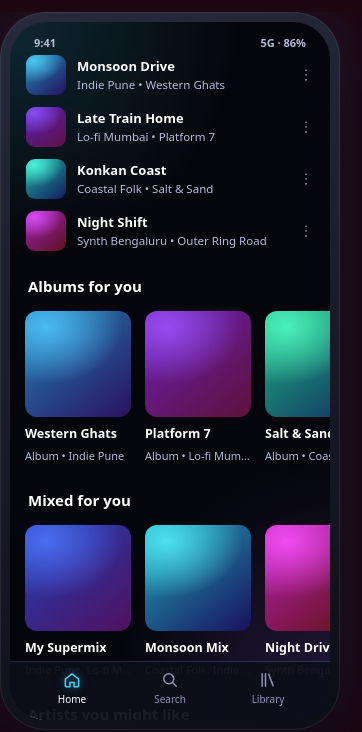
Scenario: Swar demo › opens an album and plays it from a track
This screenshot has width=362, height=732.
(page scrolled)
Click the button "Platform 7 Album • Lo-fi Mumbai": (198, 388) 140,306 -> 256,469
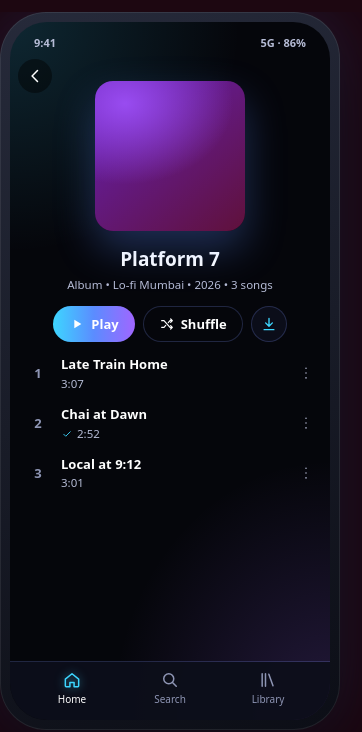
Expected: the heading "Platform 7" is shown, 120,245 -> 220,274
Click the button with aria-label "Play Chai at Dawn by Lo-fi Mumbai": (149, 423) 10,398 -> 288,448
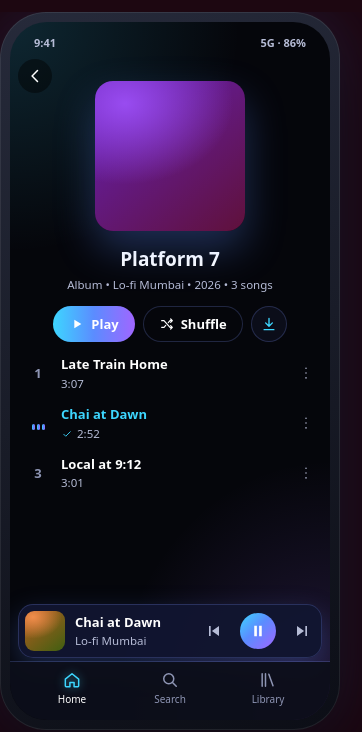
Click the button named "Back": (35, 76) 18,59 -> 52,93
(page scrolled)
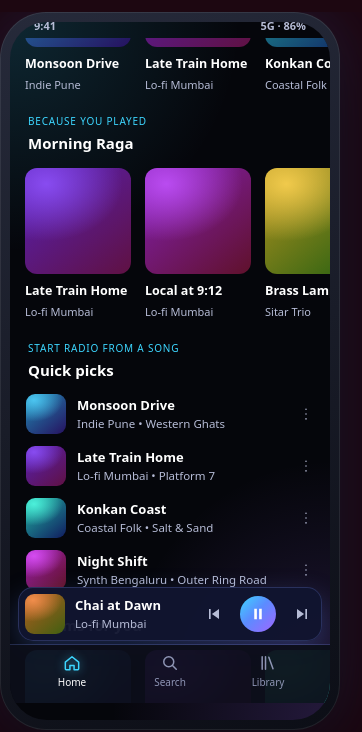
Expected: the heading "Quick picks" is shown, 28,360 -> 114,380
